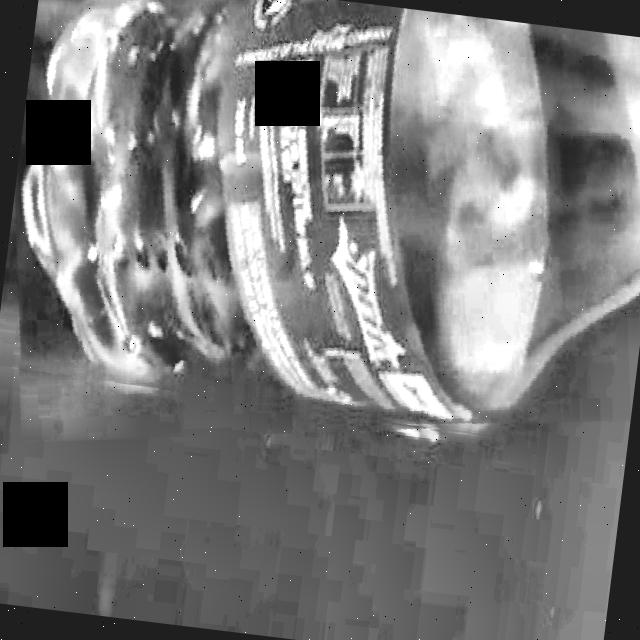bottle: (14, 0, 640, 423)
